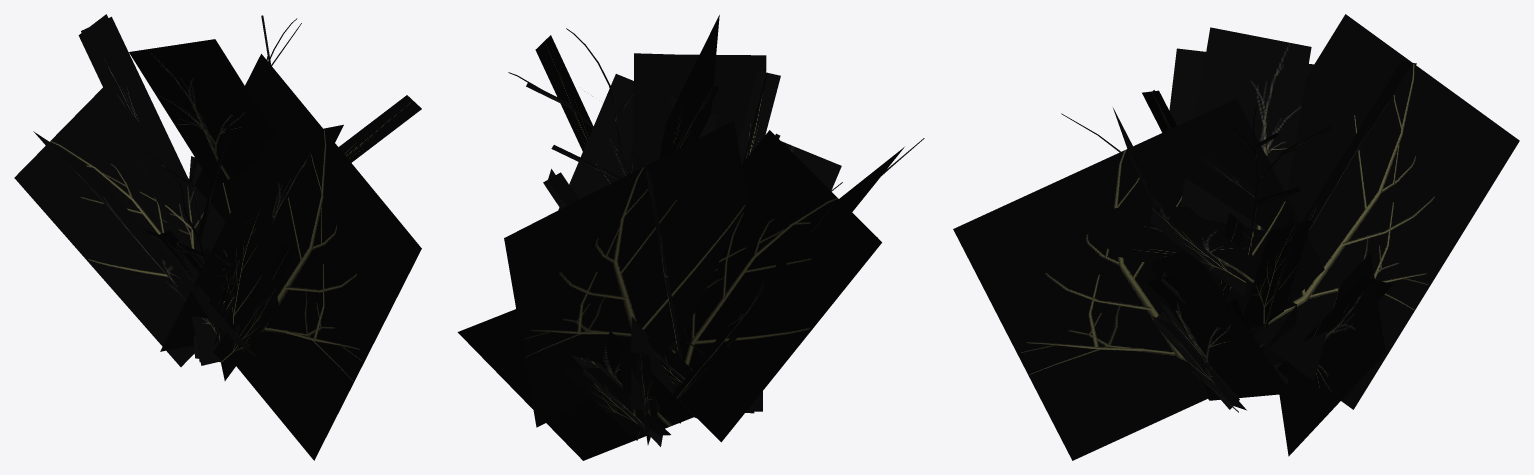
File: corylopsis_spring_winter.glb
3 views of the same model, side by side, from view 1: azimuth 30°, elevation 25°; view 2: azimuth 150°, elevation 25°; view 3: azimuth 270°, elevation 25° (orthographic). The views are drawn at different scales.
Visible parts, largest first — view 1: 2_Leaves, 1_Trunk; view 2: 2_Leaves, 1_Trunk; view 3: 2_Leaves, 1_Trunk.
Part boxes in pixels (box(x1,y1,x2,y2)): 2_Leaves: box(14, 14, 421, 460); 1_Trunk: box(146, 18, 301, 343); 2_Leaves: box(457, 15, 904, 460); 1_Trunk: box(508, 28, 924, 423); 2_Leaves: box(953, 14, 1519, 460); 1_Trunk: box(1061, 105, 1304, 355).
Bounding box in the file's own units: 60.18 × 63.32 × 78.37.
1 material, 1 textured.
